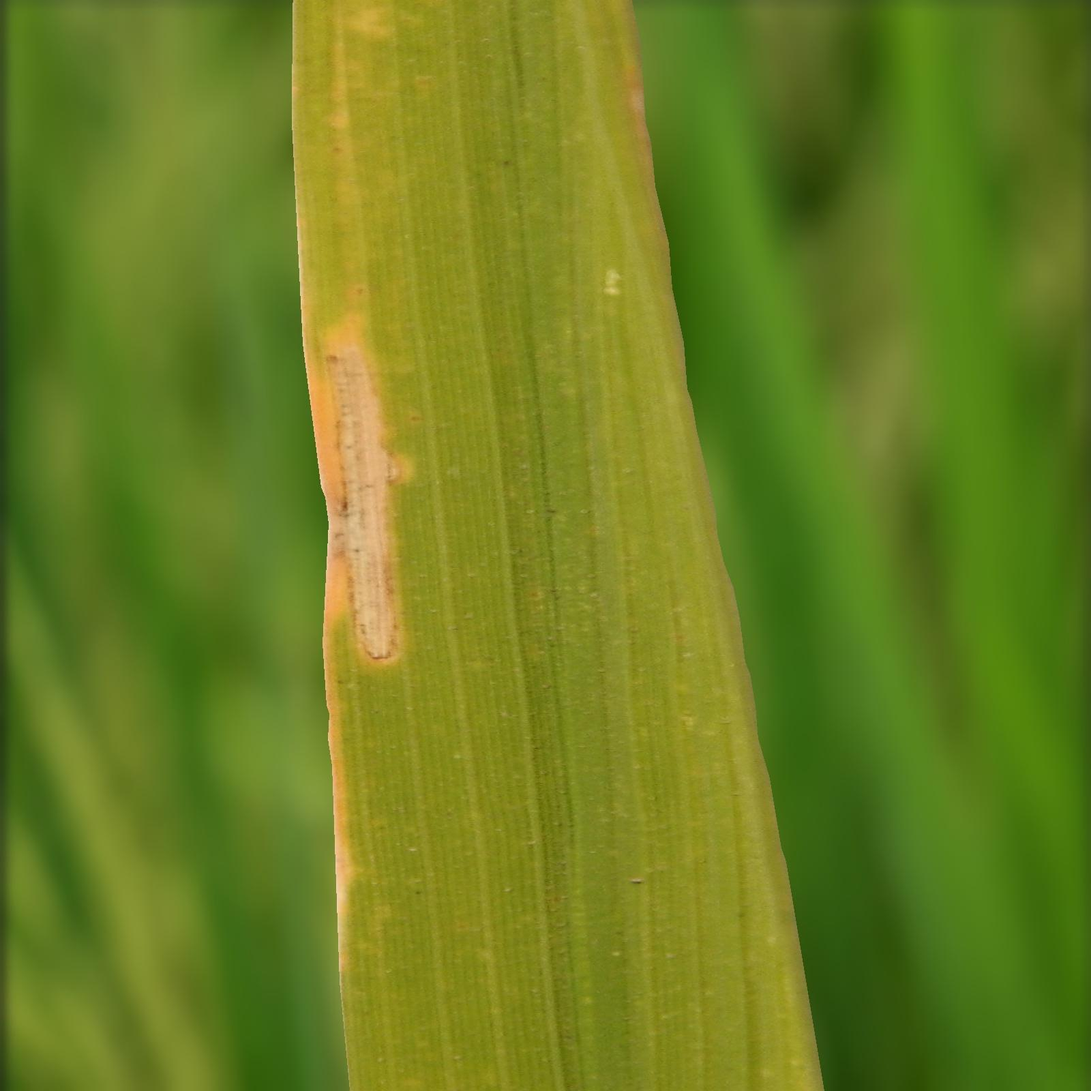BLS: (306, 333, 398, 976)
LEAF: (292, 0, 824, 1090)
